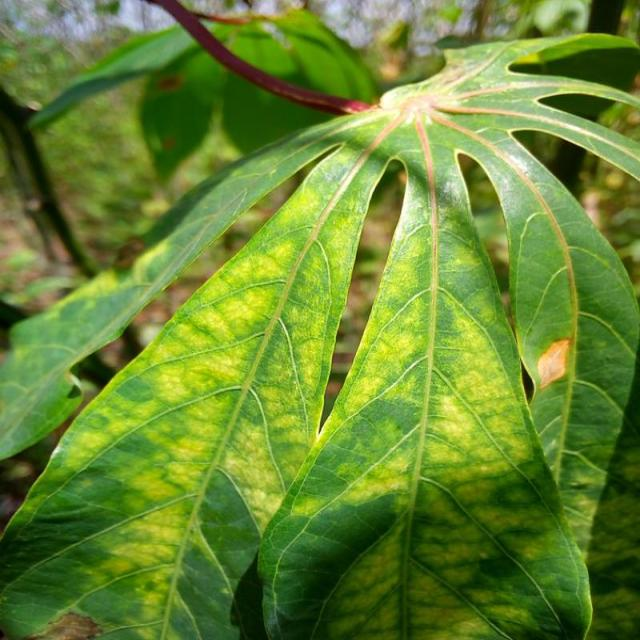cassava leaf: (0, 30, 638, 638), (255, 129, 594, 638)
